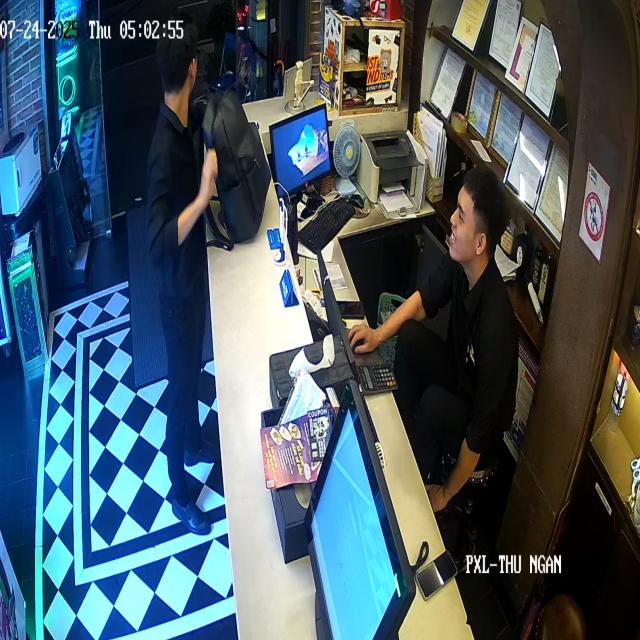nhan vien: (352, 99, 522, 523), (133, 28, 231, 554)
